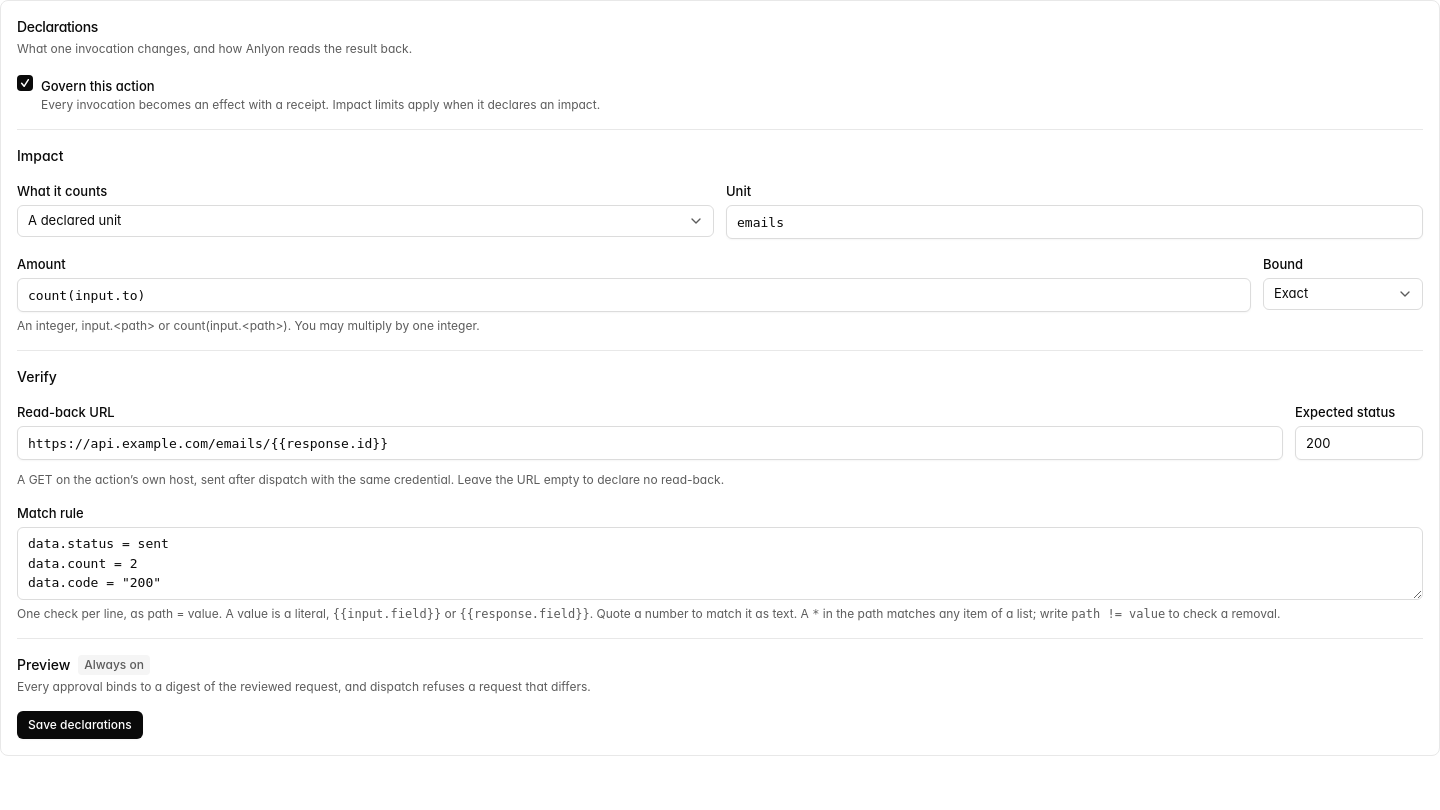
Test case: DeclarationsForm › does not send a request when nothing changed
Click the button "Save declarations": click(80, 724) x1=17 y1=710 x2=143 y2=738
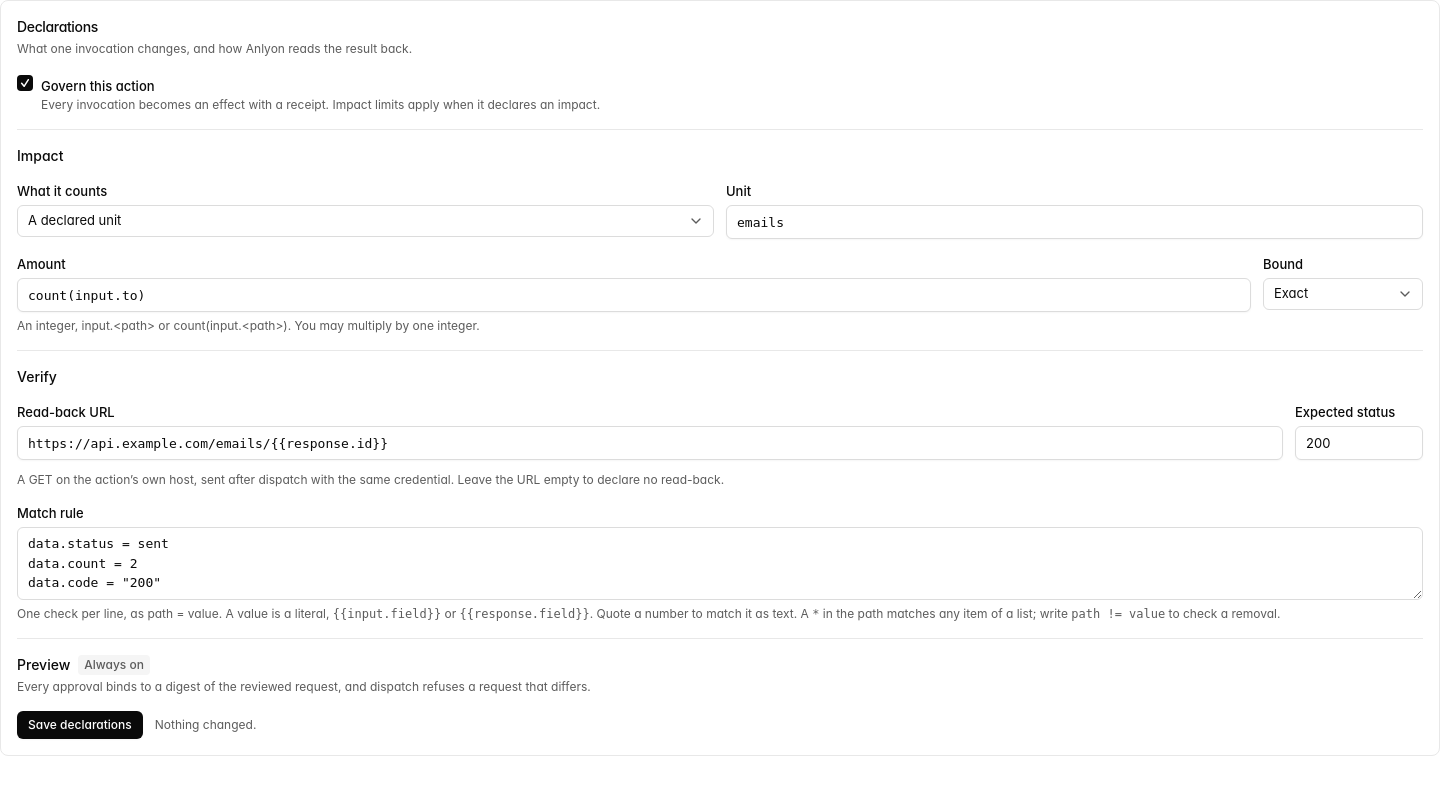
Now the text "Nothing changed." is shown, box x1=155 y1=716 x2=256 y2=732
